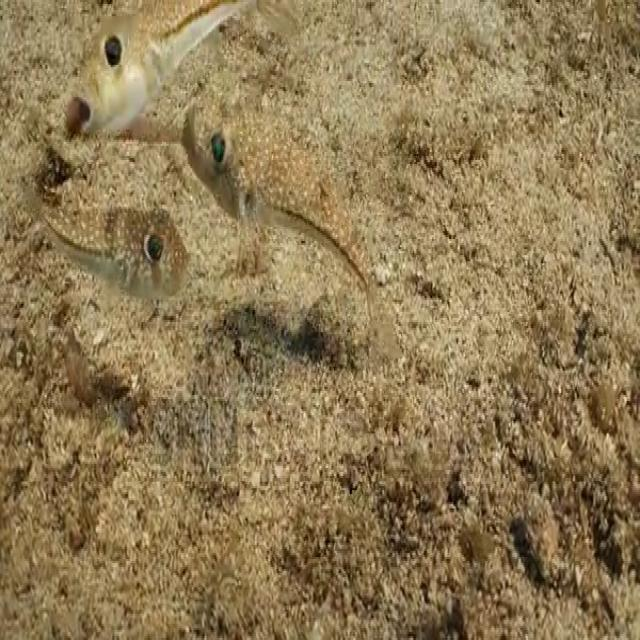Balon Baligi: (185, 77, 405, 336), (40, 150, 196, 314), (64, 0, 236, 133)
